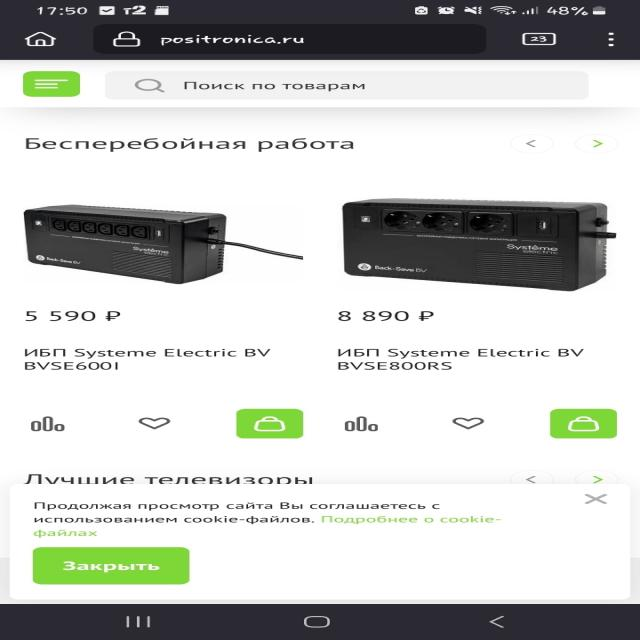button: (33, 546, 191, 584), (582, 491, 614, 506)
site: (4, 486, 633, 600)
